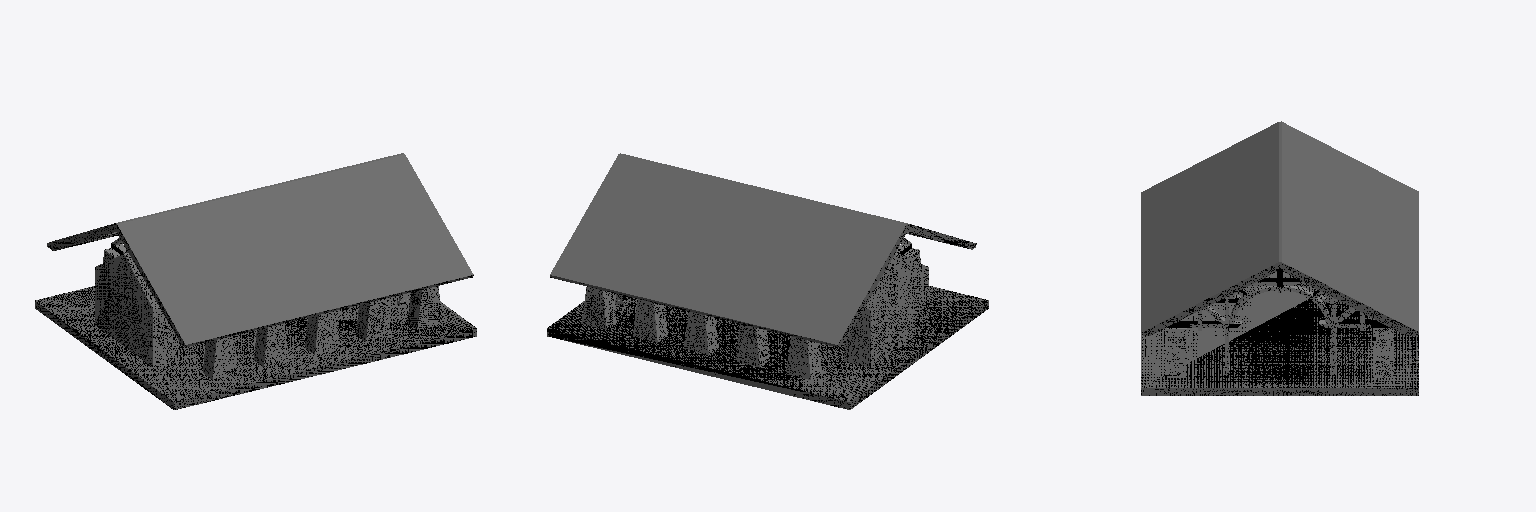
Rendered from Pavilion_6.obj.
3 renders of one model, left to right at view 1: azimuth 30°, elevation 25°; view 2: azimuth 150°, elevation 25°; view 3: azimuth 270°, elevation 25°, orthographic.
Visible parts, largest first — view 1: Mesh1 Model, Mesh2 Model; view 2: Mesh1 Model, Mesh2 Model; view 3: Mesh1 Model, Mesh2 Model.
Boxes of the visible parts, x1=… form: Mesh1 Model: x1=47, y1=153, x2=473, y2=379; Mesh2 Model: x1=35, y1=286, x2=476, y2=409; Mesh1 Model: x1=550, y1=153, x2=976, y2=379; Mesh2 Model: x1=547, y1=286, x2=988, y2=409; Mesh1 Model: x1=1141, y1=121, x2=1418, y2=377; Mesh2 Model: x1=1141, y1=272, x2=1418, y2=395.
Size of the model in its own units: 412 by 172 by 328.